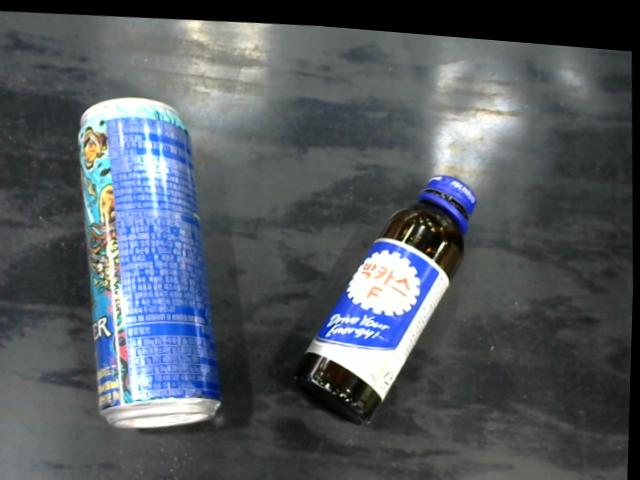trash: (74, 85, 237, 440), (295, 164, 483, 430)
